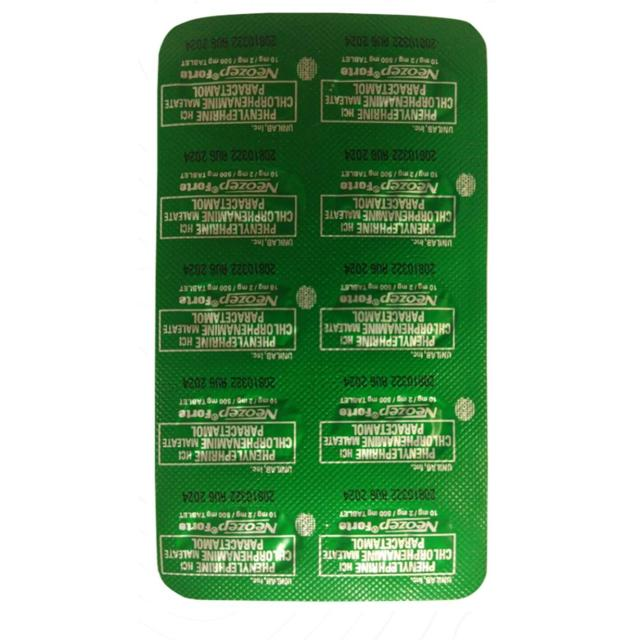blister: (146, 5, 499, 609)
